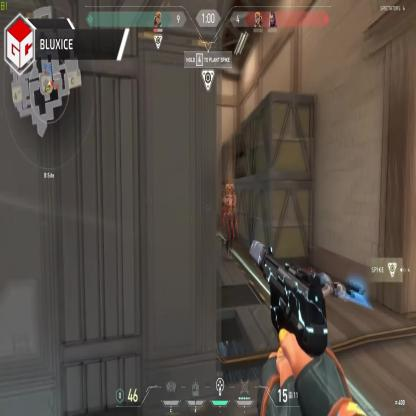enemy: (223, 186, 236, 259)
enemy_head: (226, 184, 232, 195)
